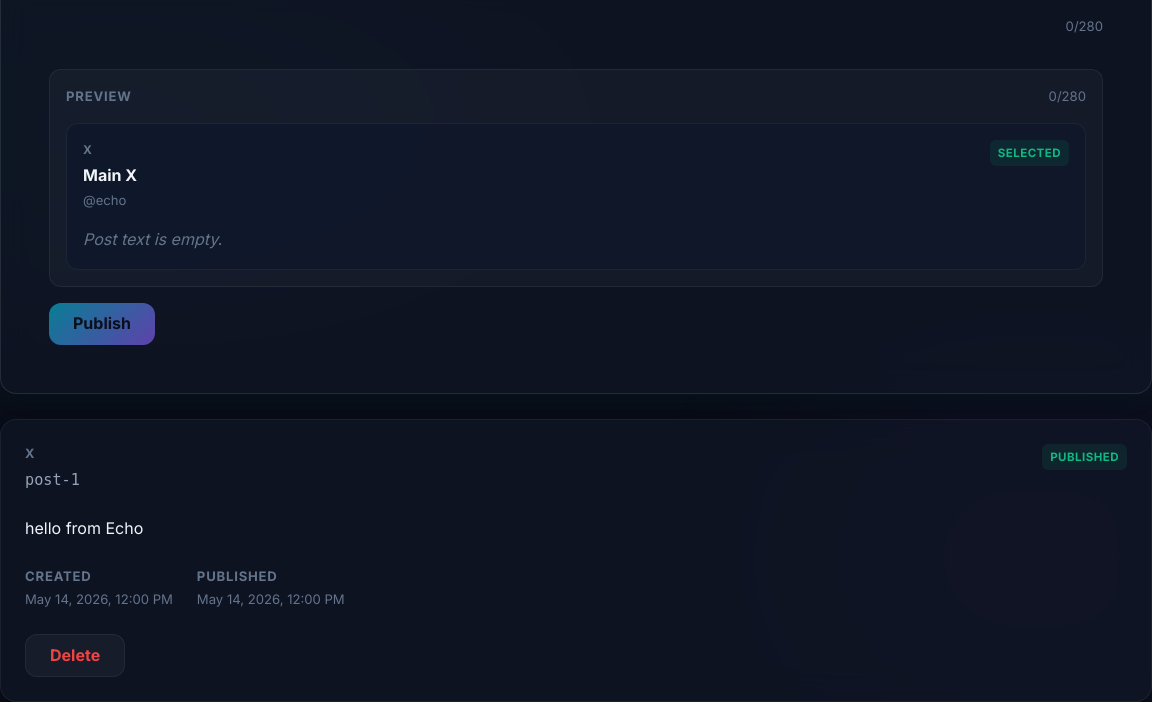
Scenario: PostsPage › deletes posts through the admin session
The image size is (1152, 702).
(page scrolled)
Click the button with aria-label "Delete post post-1": click(75, 656) [25,634,125,678]
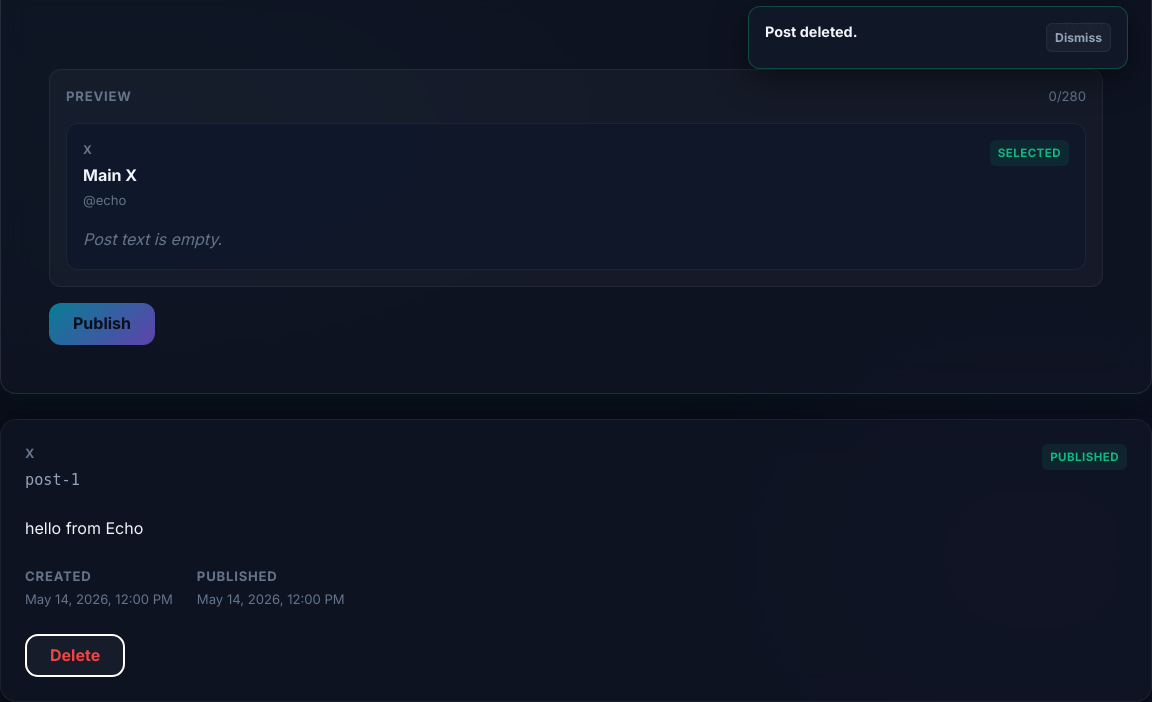
Expected: the text "Post deleted." is shown, [765,23,858,42]
